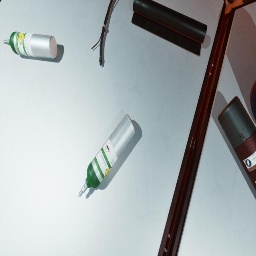0: (78, 114, 135, 198), (3, 32, 57, 59)
NitrogenTank ,: (218, 96, 256, 190)
